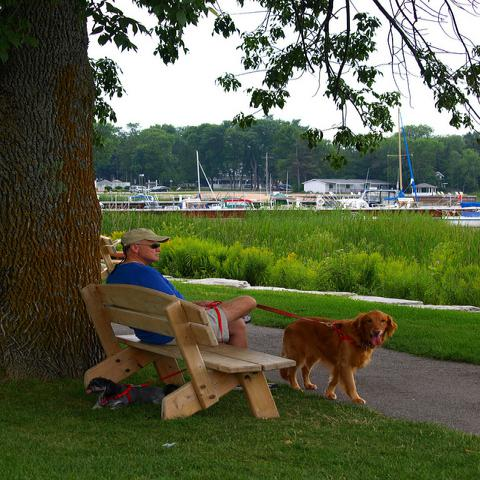car: (129, 185, 148, 193), (149, 186, 170, 192), (281, 184, 292, 189)
